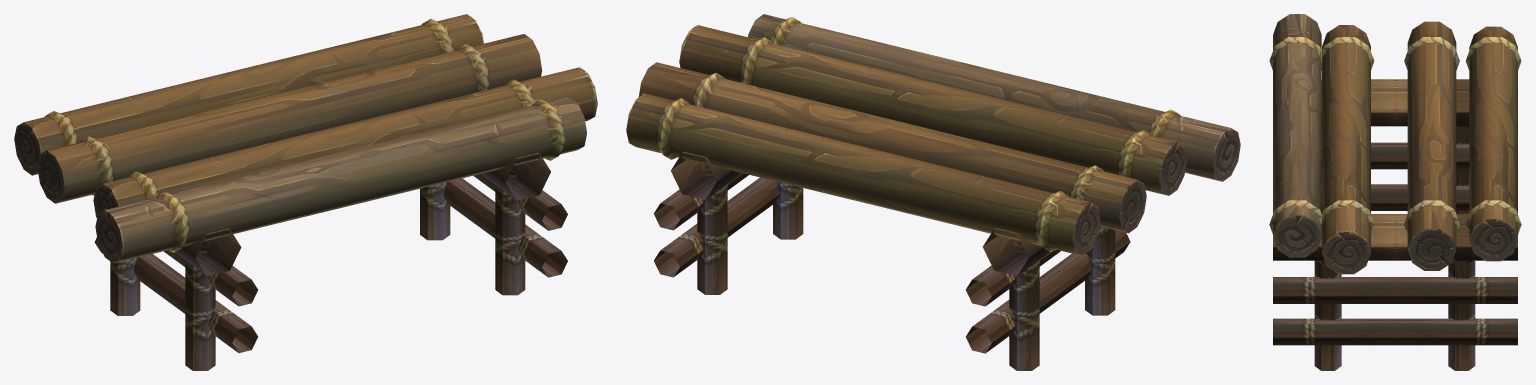
The model's file is scenes_beach_road01b.FBX.
3 renders of one model, left to right at view 1: azimuth 30°, elevation 25°; view 2: azimuth 150°, elevation 25°; view 3: azimuth 270°, elevation 25°, orthographic. The views are drawn at different scales.
Visible parts, largest first — view 1: scenes_beach_road01b; view 2: scenes_beach_road01b; view 3: scenes_beach_road01b.
Boxes of the visible parts, left/top/right/bottom form: scenes_beach_road01b: left=14, top=14, right=597, bottom=370; scenes_beach_road01b: left=626, top=14, right=1240, bottom=370; scenes_beach_road01b: left=1269, top=14, right=1521, bottom=370.
Size of the model in its own units: 635 by 235 by 310.
